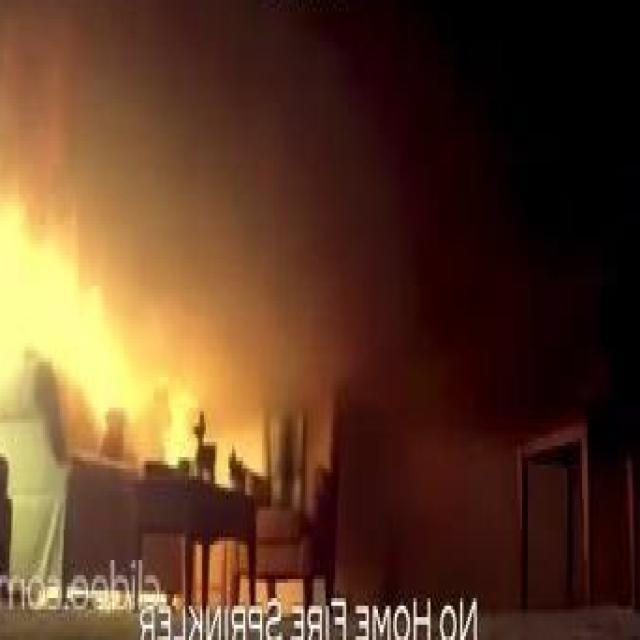smoke: (0, 194, 197, 460)
